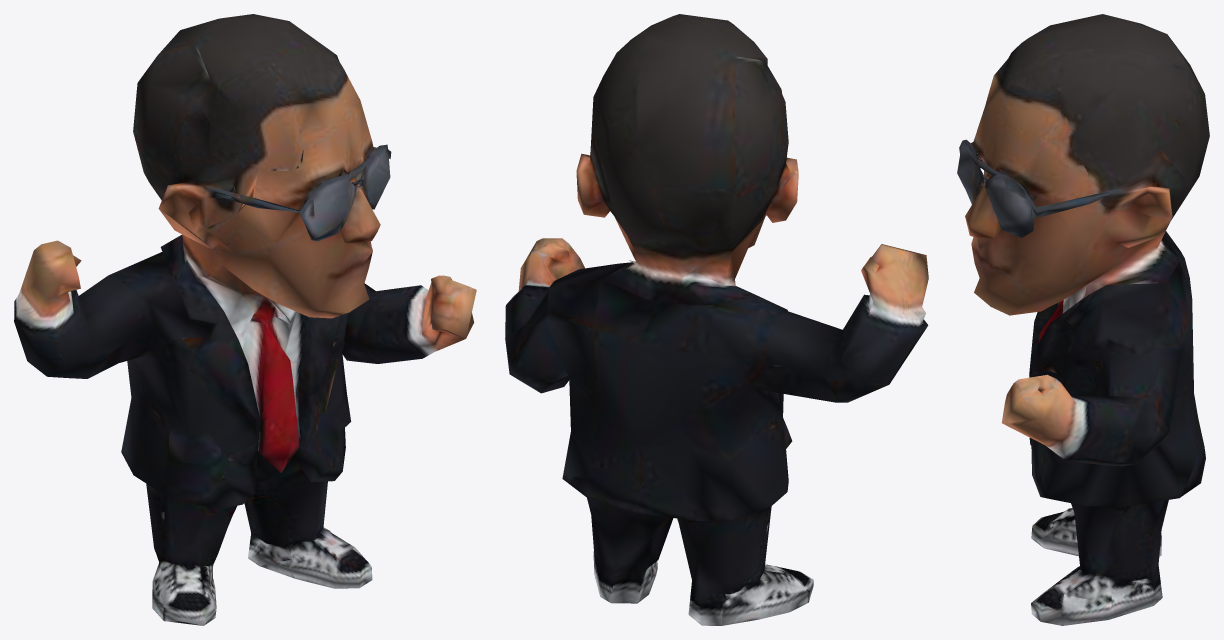
Rendered from obama-statue.lod.glb.
3 renders of one model, left to right at view 1: azimuth 30°, elevation 25°; view 2: azimuth 150°, elevation 25°; view 3: azimuth 270°, elevation 25°, orthographic.
Parts seen in each view (by area): view 1: tripo_node_6fb1196c-2395-4f52-b5e5-3f893247d56a; view 2: tripo_node_6fb1196c-2395-4f52-b5e5-3f893247d56a; view 3: tripo_node_6fb1196c-2395-4f52-b5e5-3f893247d56a.
Part boxes in pixels (x1,y1,x2,y2): tripo_node_6fb1196c-2395-4f52-b5e5-3f893247d56a: (14, 14, 476, 625); tripo_node_6fb1196c-2395-4f52-b5e5-3f893247d56a: (505, 14, 928, 625); tripo_node_6fb1196c-2395-4f52-b5e5-3f893247d56a: (957, 14, 1209, 625).
Size of the model in its own units: 0.783 by 0.9796 by 0.4074.
Materials: 1 (1 with a texture image).
